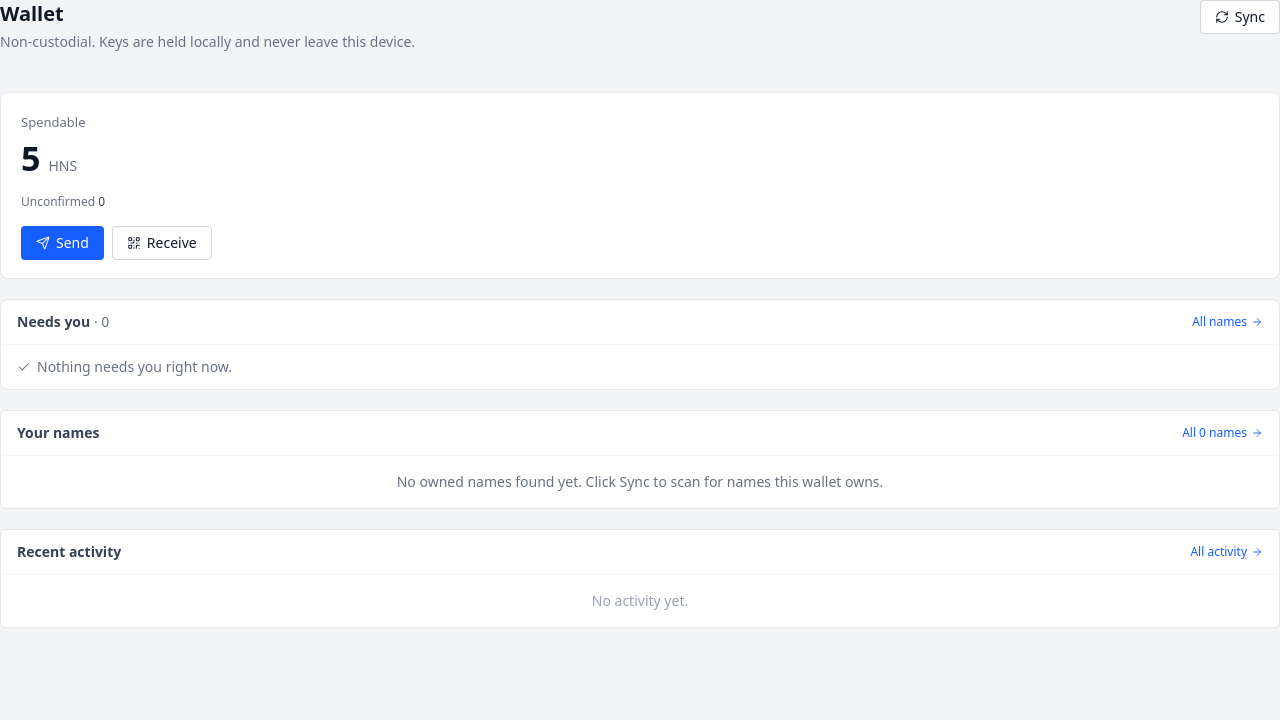
WalletView send flow (asset safety) › shows the FULL recipient address on the confirm screen, untruncated
This screenshot has width=1280, height=720.
Check: the button with test id "receive-open" is shown, box [112, 226, 212, 260]
Step 1. Click the button with test id "wallet-send" → click(62, 242), box [21, 226, 104, 260]
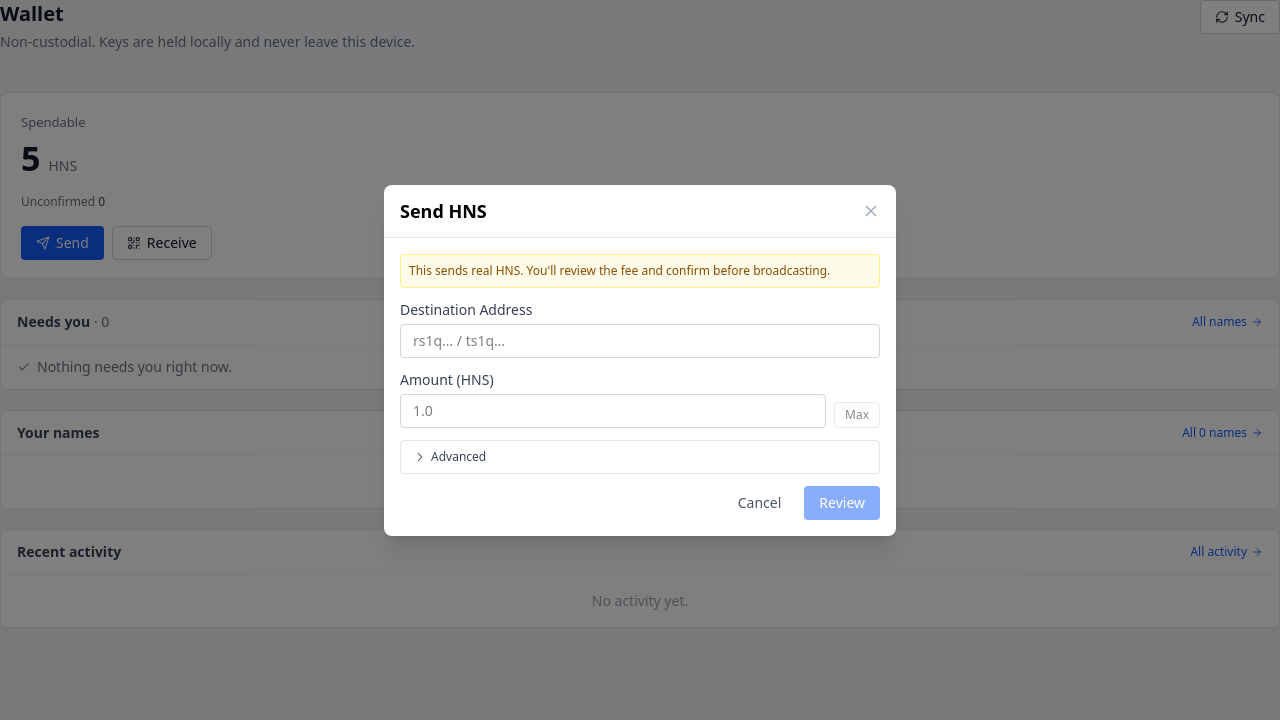
Step 2. Type "rs1qkc9l7ykllufaxa6yfq47krr5xlcunyqv3svqj2" into the field with placeholder "rs1q… / ts1q…" → (640, 340), box [400, 324, 880, 358]
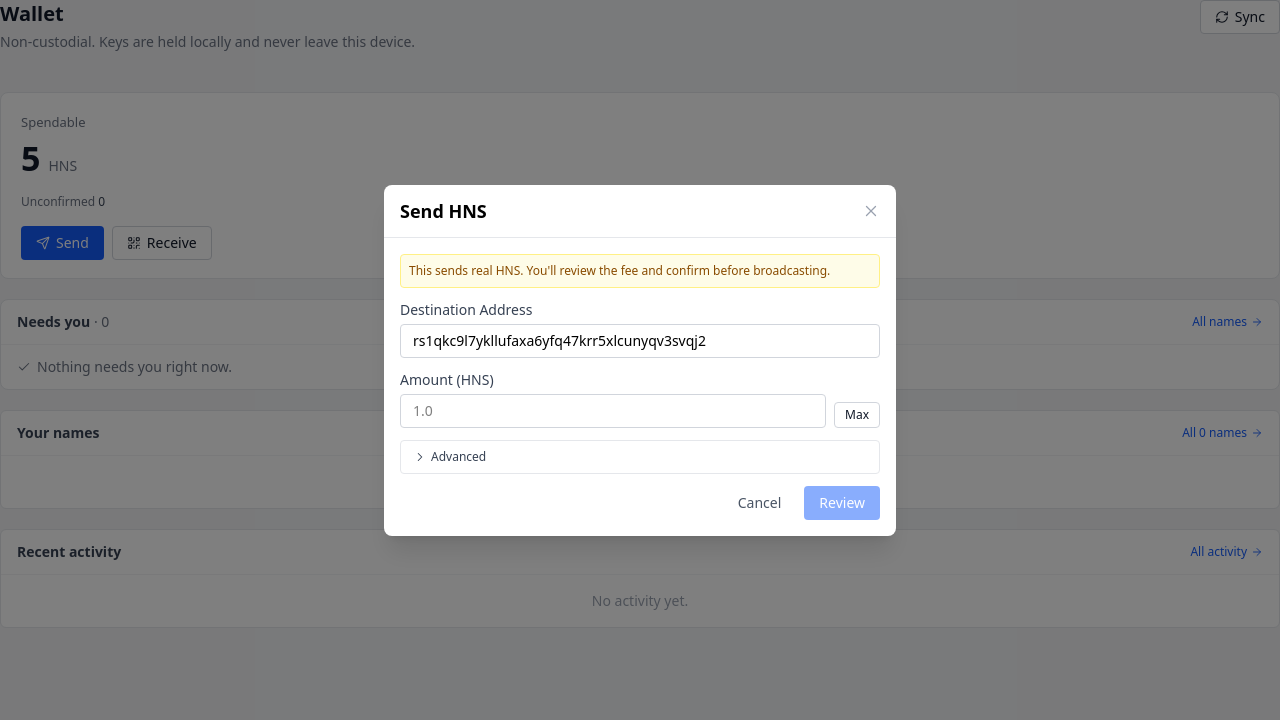
Step 3. Type "1" into the number field with placeholder "1.0" → (613, 410), box [400, 394, 826, 428]
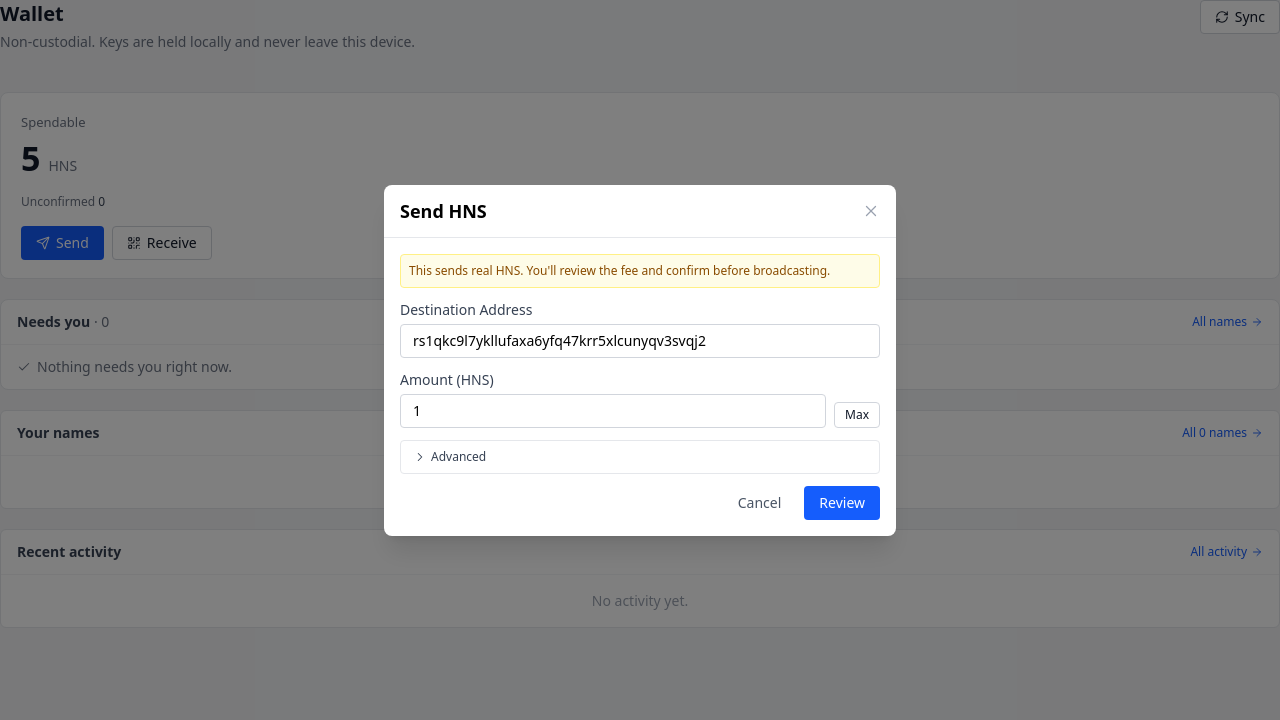
Step 4. Click the button "Review" → click(842, 502), box [804, 486, 880, 520]
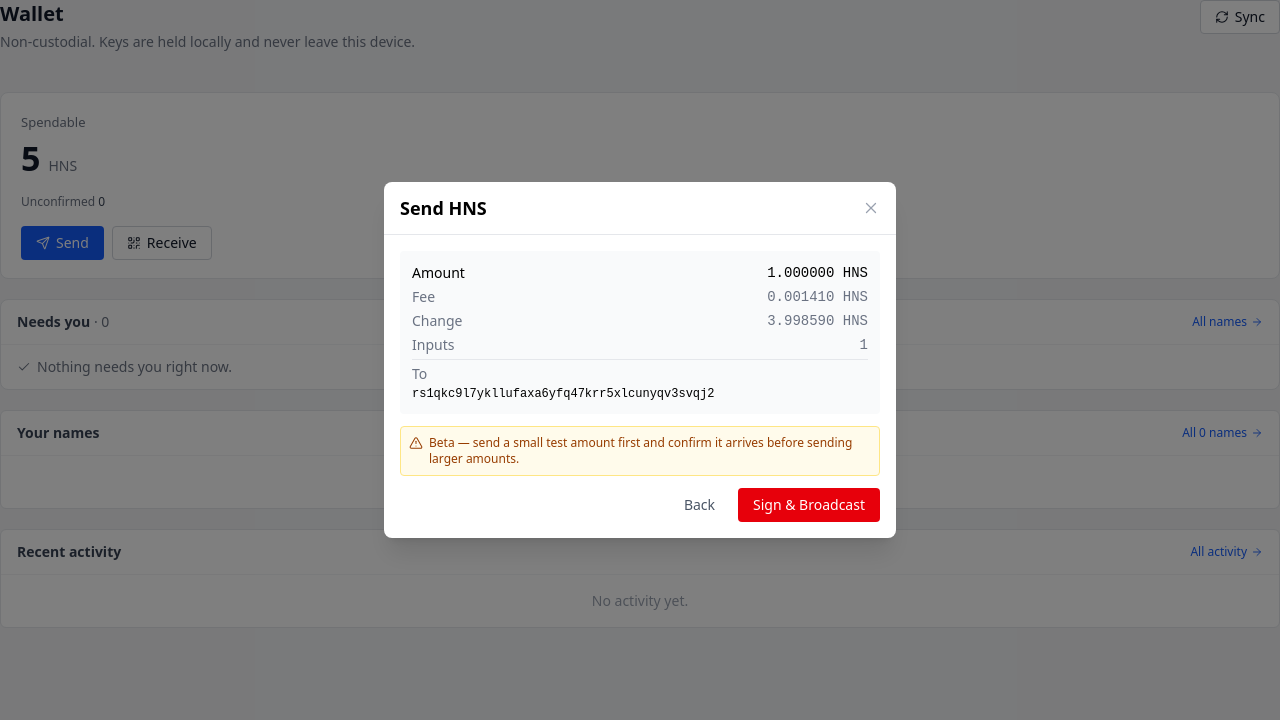
Check: the button "Sign & Broadcast" is shown, box [738, 488, 880, 522]
Check: the text with test id "send-recipient" reads "rs1qkc9l7ykllufaxa6yfq47krr5xlcunyqv3svqj2", box [412, 387, 714, 401]
